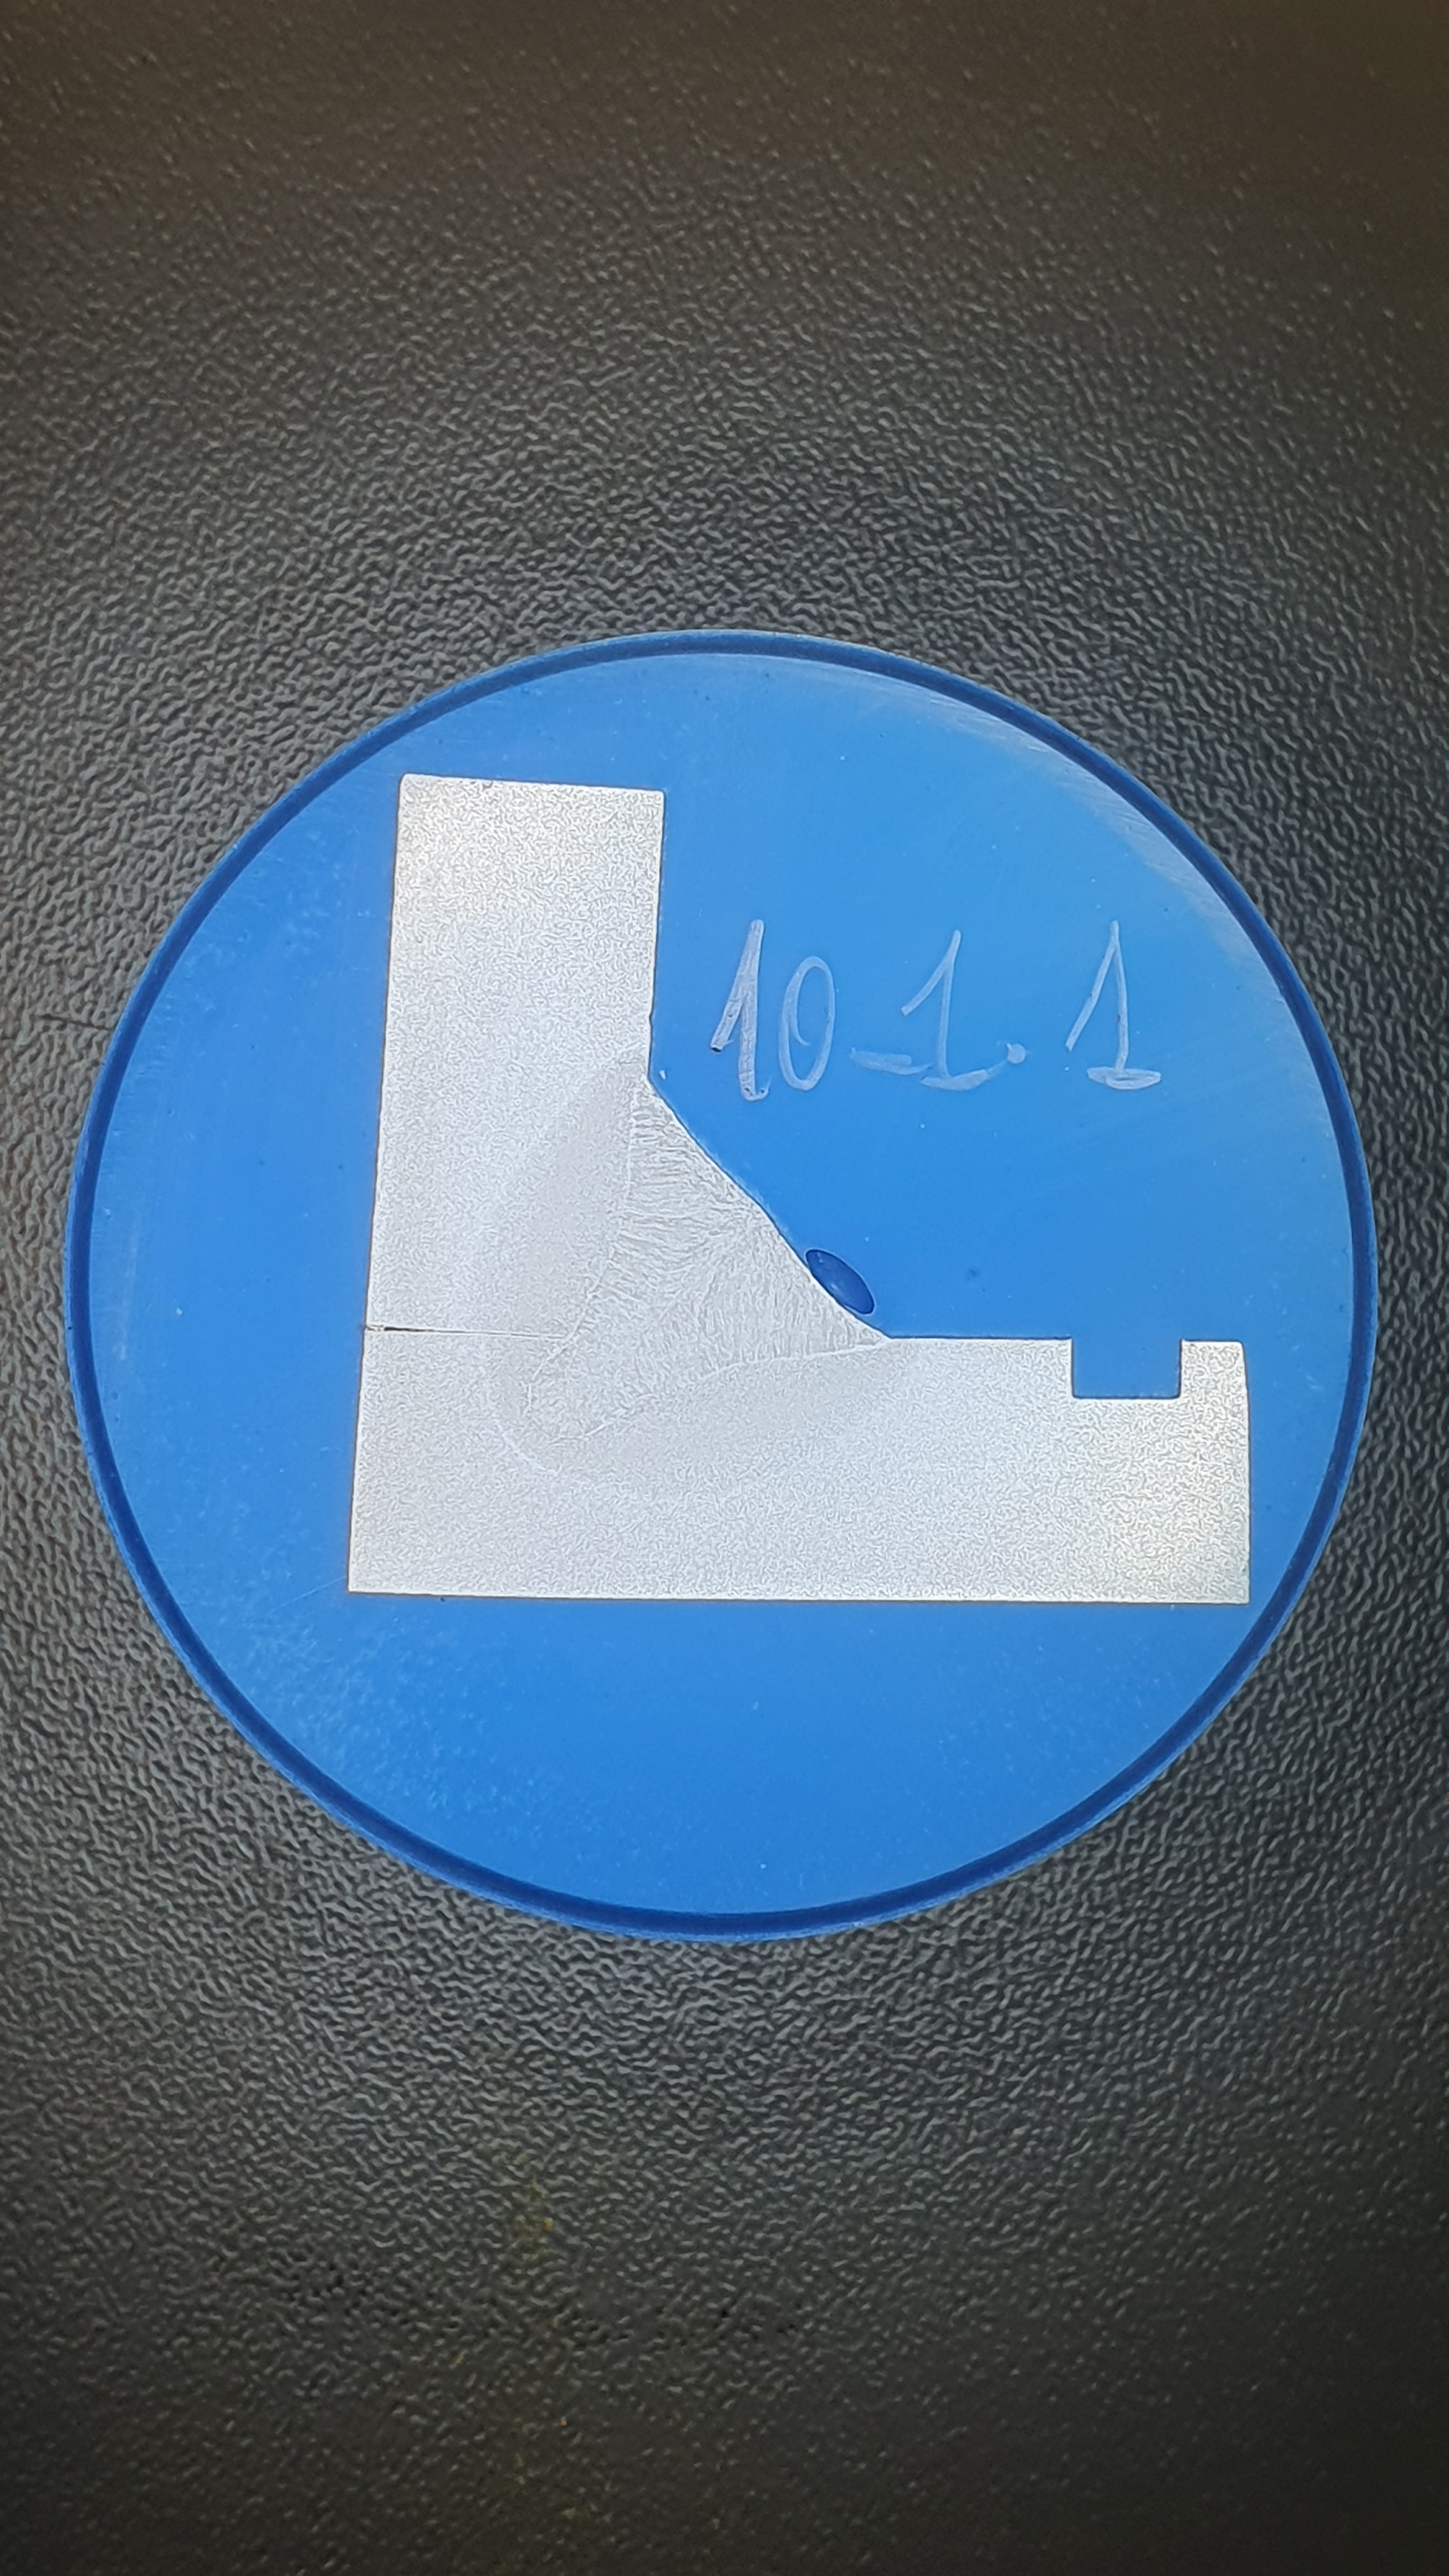Fusion: (528, 1075, 883, 1437)
Hintergrund: (87, 652, 1353, 1913)
Metall: (348, 772, 1250, 1605)
Nebenbereich: (478, 1044, 917, 1498)
